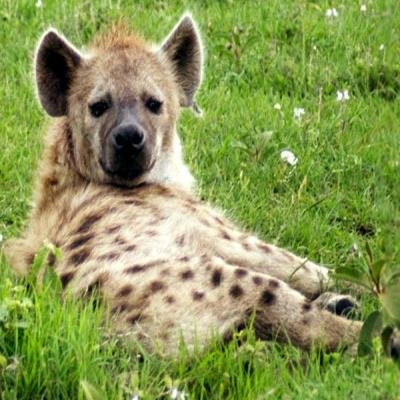hyenas: (4, 15, 390, 367)
